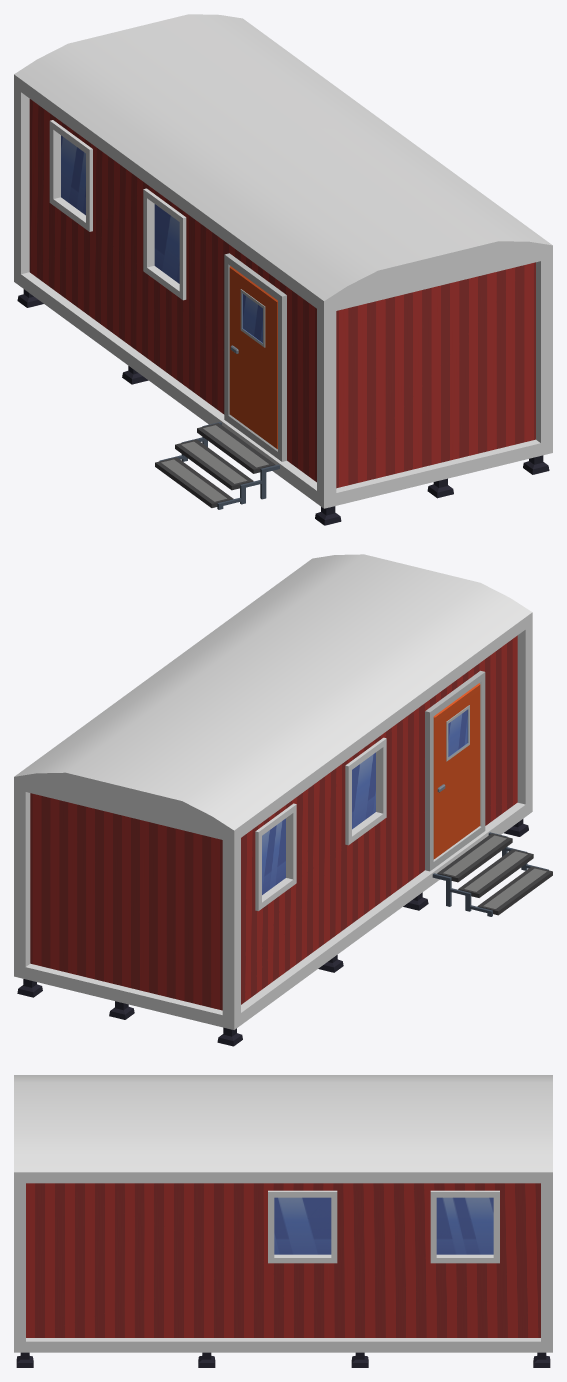
File: TrailerC_1_D.glb
3 views of the same model, one above another, from view 1: azimuth 30°, elevation 25°; view 2: azimuth 150°, elevation 25°; view 3: azimuth 270°, elevation 25° (orthographic). The views are drawn at different scales.
Visible parts, largest first — view 1: TrailerC_1_D; view 2: TrailerC_1_D; view 3: TrailerC_1_D.
Boxes of the visible parts, box(x1,y1,x2,y2) form: TrailerC_1_D: box(14, 14, 552, 525); TrailerC_1_D: box(14, 554, 552, 1046); TrailerC_1_D: box(14, 1075, 552, 1367).
Bounding box in the file's own units: 3.3 × 2.6 × 5.99.
4 materials, 4 textured.
